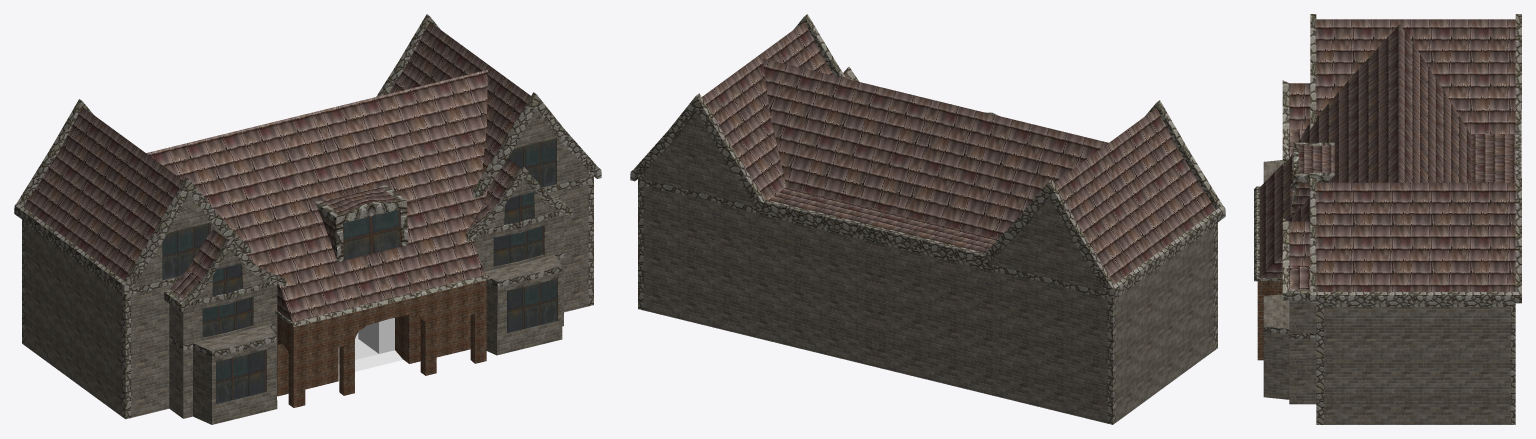
The model's file is MansãoFolklore.fbx.
3 views of the same model, side by side, from view 1: azimuth 30°, elevation 25°; view 2: azimuth 150°, elevation 25°; view 3: azimuth 270°, elevation 25° (orthographic). The views are drawn at different scales.
Parts seen in each view (by area): view 1: Cube.002, Cube, Cube.001, Cube.003; view 2: Cube, Cube.002; view 3: Cube, Cube.002, Cube.001.
Part boxes in pixels (bbox=[...]): Cube.002: bbox=[146, 70, 490, 407]; Cube: bbox=[14, 14, 601, 419]; Cube.001: bbox=[164, 158, 572, 424]; Cube.003: bbox=[338, 318, 403, 375]; Cube: bbox=[630, 14, 1225, 424]; Cube.002: bbox=[762, 58, 1108, 238]; Cube: bbox=[1310, 14, 1521, 424]; Cube.002: bbox=[1254, 24, 1470, 360]; Cube.001: bbox=[1263, 80, 1316, 404].
Size of the model in its own units: 16.18 by 7.39 by 8.17.
5 materials, 5 textured.
